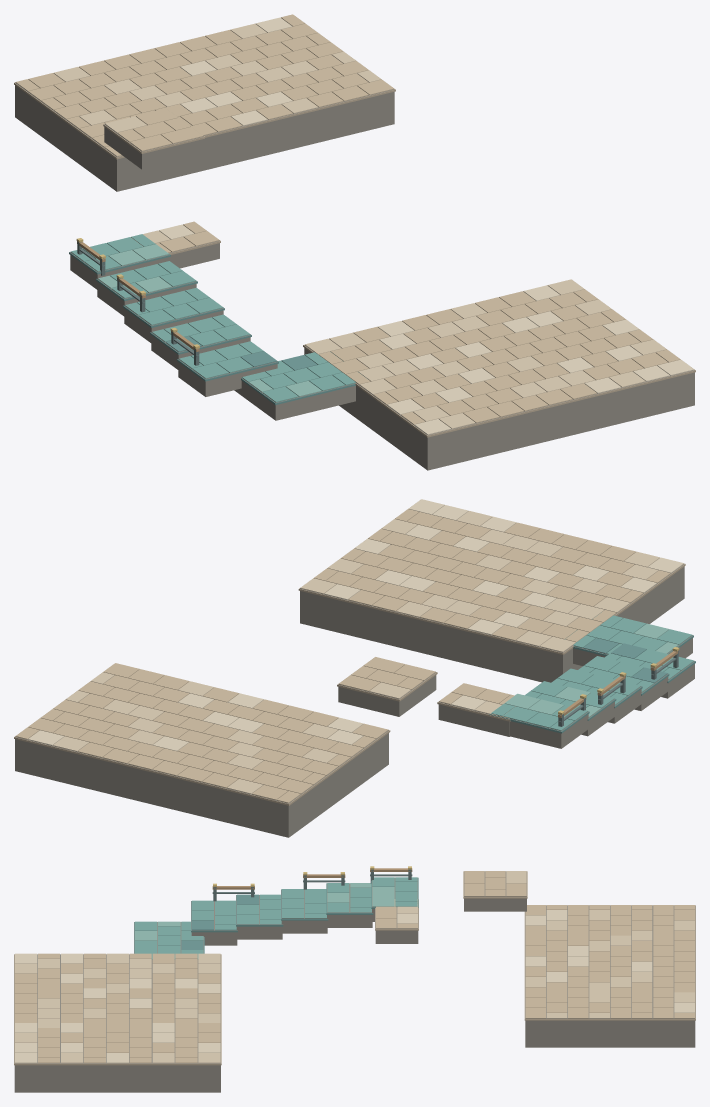
The model's file is PavedDecks.glb.
3 views of the same model, one above another, from view 1: azimuth 30°, elevation 25°; view 2: azimuth 150°, elevation 25°; view 3: azimuth 270°, elevation 25° (orthographic). The views are drawn at different scales.
Parts seen in each view (by area): view 1: PavedDecks; view 2: PavedDecks; view 3: PavedDecks.
Boxes of the visible parts, bbox=[...] form: PavedDecks: bbox=[14, 14, 695, 470]; PavedDecks: bbox=[14, 499, 695, 837]; PavedDecks: bbox=[14, 866, 695, 1092].
Size of the model in its own units: 14.61 by 4.54 by 26.45.
